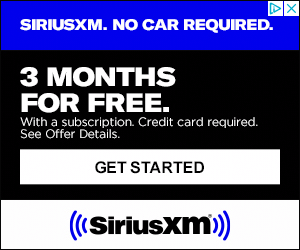fake_button: (14, 144, 289, 191)
